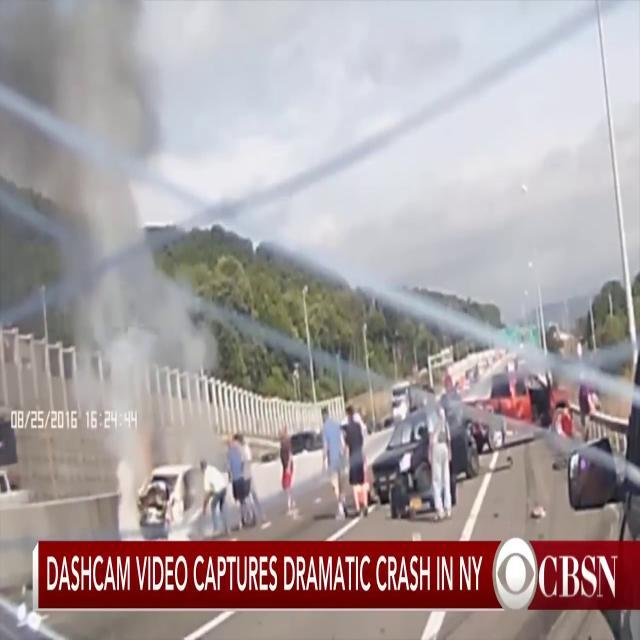Smoke: (0, 0, 238, 523)
